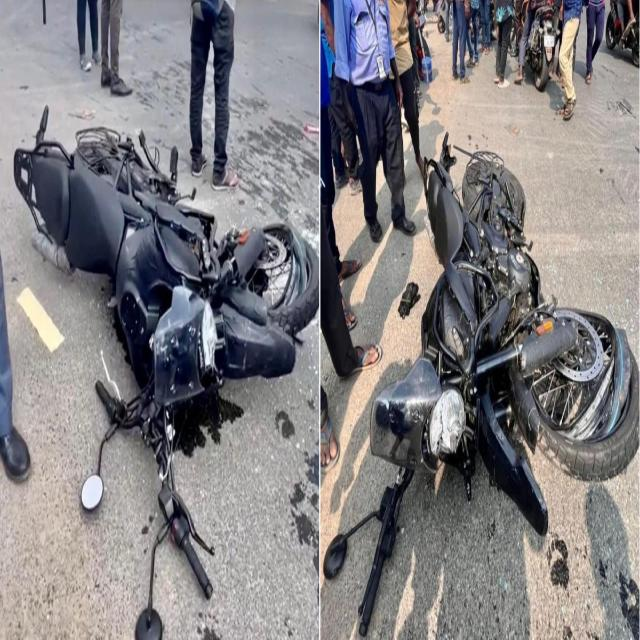accident: (324, 134, 638, 635), (14, 107, 318, 597), (136, 552, 161, 638)
